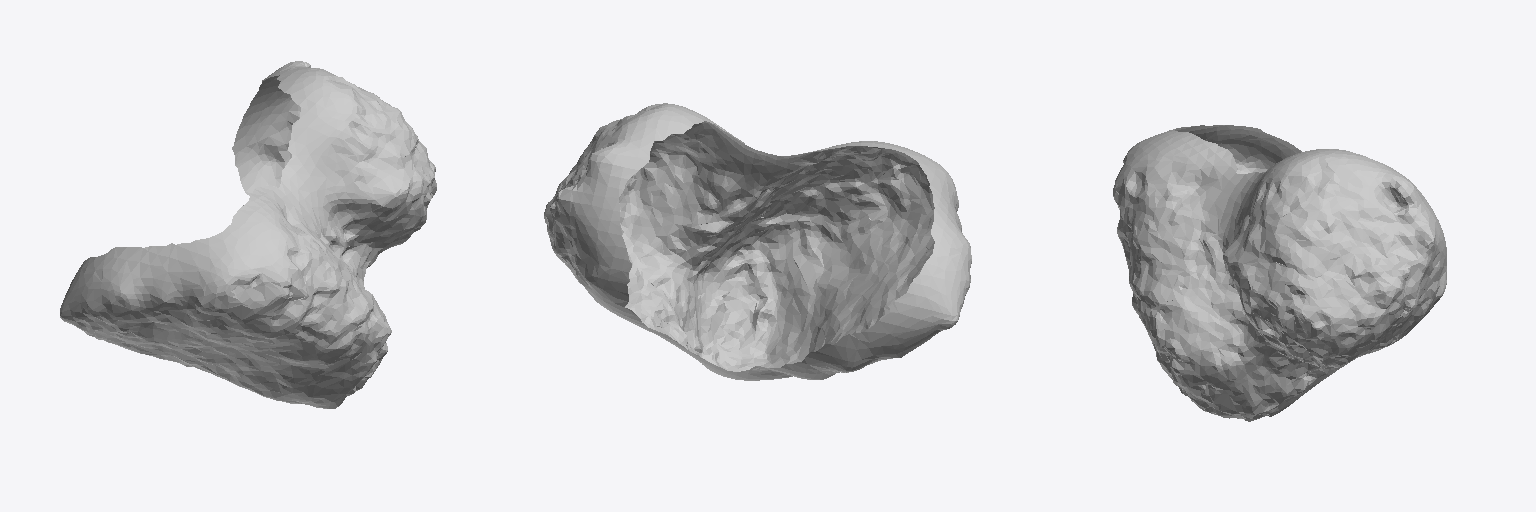
The model's file is testmesh3.obj.
The picture shows the model from 3 angles: view 1: azimuth 30°, elevation 25°; view 2: azimuth 150°, elevation 25°; view 3: azimuth 270°, elevation 25°; orthographic projection.
Bounding box in the file's own units: 0.1168 × 0.0823 × 0.088.